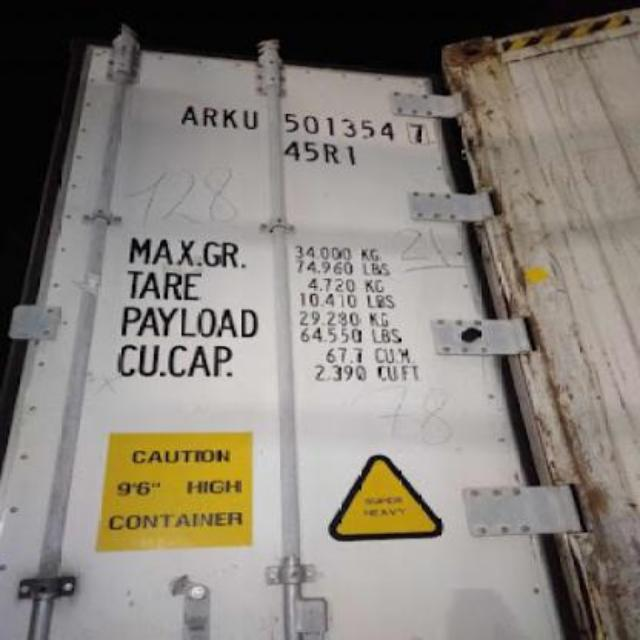0: (302, 114, 320, 136)
1: (324, 115, 340, 136)
3: (340, 118, 358, 138)
4: (380, 122, 396, 144)
5: (358, 118, 378, 142), (282, 111, 300, 132)
7: (408, 121, 426, 142)
A: (180, 104, 200, 128)
K: (221, 106, 239, 130)
R: (202, 106, 220, 128)
U: (242, 108, 260, 130)
